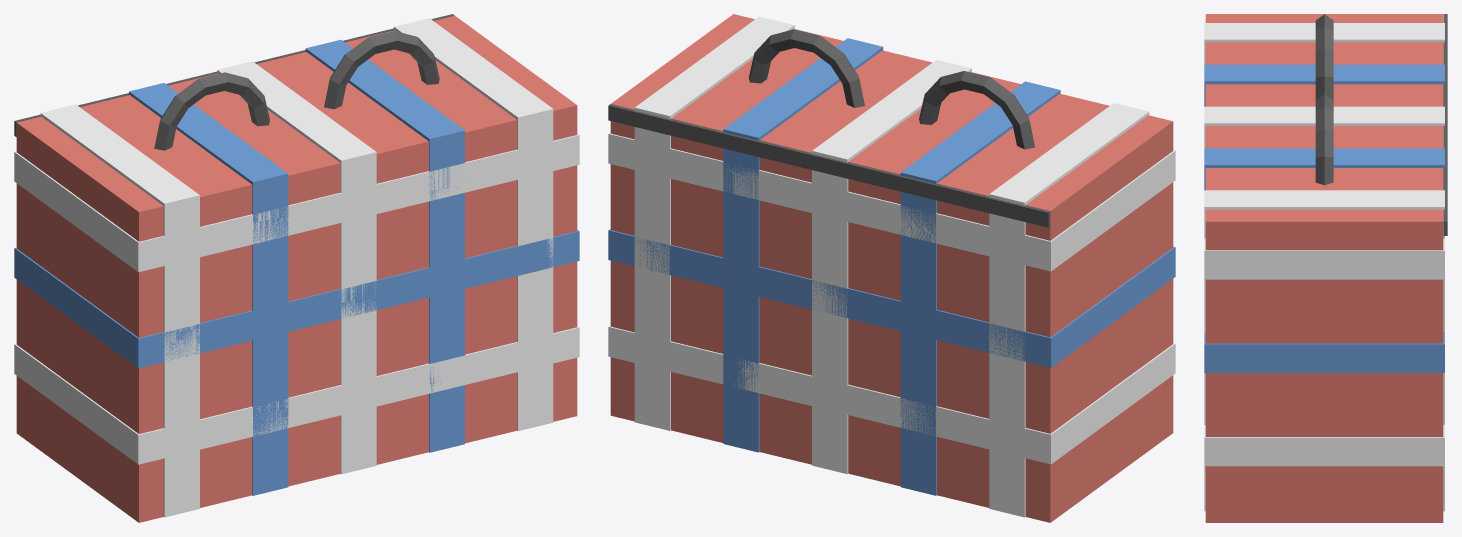
Rendered from ghana-must-go-bag.glb.
The picture shows the model from 3 angles, left to right: view 1: azimuth 30°, elevation 25°; view 2: azimuth 150°, elevation 25°; view 3: azimuth 270°, elevation 25°; orthographic projection. The views are drawn at different scales.
Visible parts, largest first — view 1: ghana-must-go-bag_Cube, ghana-must-go-bag_Cube.007, ghana-must-go-bag_Cube.006, ghana-must-go-bag_Cube.008, ghana-must-go-bag_Cube.001, ghana-must-go-bag_Cube.002, ghana-must-go-bag_Cube.003, ghana-must-go-bag_Cube.005, ghana-must-go-bag_Cube.004, ghana-must-go-bag_Torus.001, ghana-must-go-bag_Torus, ghana-must-go-bag_Cube.009; view 2: ghana-must-go-bag_Cube, ghana-must-go-bag_Cube.008, ghana-must-go-bag_Cube.007, ghana-must-go-bag_Cube.006, ghana-must-go-bag_Cube.001, ghana-must-go-bag_Cube.005, ghana-must-go-bag_Cube.004, ghana-must-go-bag_Cube.002, ghana-must-go-bag_Cube.003, ghana-must-go-bag_Cube.009, ghana-must-go-bag_Torus, ghana-must-go-bag_Torus.001; view 3: ghana-must-go-bag_Cube, ghana-must-go-bag_Cube.006, ghana-must-go-bag_Cube.008, ghana-must-go-bag_Cube.007, ghana-must-go-bag_Cube.005, ghana-must-go-bag_Cube.002, ghana-must-go-bag_Cube.004, ghana-must-go-bag_Cube.003, ghana-must-go-bag_Cube.001, ghana-must-go-bag_Torus.001, ghana-must-go-bag_Torus, ghana-must-go-bag_Cube.009.
Boxes of the visible parts, box(x1,y1,x2,y2) form: ghana-must-go-bag_Cube: box(16, 15, 577, 522); ghana-must-go-bag_Cube.007: box(14, 230, 579, 368); ghana-must-go-bag_Cube.006: box(14, 326, 579, 464); ghana-must-go-bag_Cube.008: box(14, 133, 579, 272); ghana-must-go-bag_Cube.001: box(40, 104, 199, 517); ghana-must-go-bag_Cube.002: box(129, 83, 288, 495); ghana-must-go-bag_Cube.003: box(217, 61, 376, 474); ghana-must-go-bag_Cube.005: box(394, 18, 553, 431); ghana-must-go-bag_Cube.004: box(305, 39, 464, 452); ghana-must-go-bag_Torus.001: box(324, 31, 439, 109); ghana-must-go-bag_Torus: box(154, 72, 269, 150); ghana-must-go-bag_Cube.009: box(14, 14, 454, 136); ghana-must-go-bag_Cube: box(610, 14, 1173, 522); ghana-must-go-bag_Cube.008: box(608, 132, 1175, 271); ghana-must-go-bag_Cube.007: box(608, 229, 1175, 367); ghana-must-go-bag_Cube.006: box(608, 325, 1175, 464); ghana-must-go-bag_Cube.001: box(989, 103, 1149, 517); ghana-must-go-bag_Cube.005: box(634, 16, 794, 430); ghana-must-go-bag_Cube.004: box(723, 38, 883, 452); ghana-must-go-bag_Cube.002: box(900, 81, 1060, 495); ghana-must-go-bag_Cube.003: box(812, 59, 971, 474); ghana-must-go-bag_Cube.009: box(608, 104, 1050, 227); ghana-must-go-bag_Torus: box(919, 71, 1035, 149); ghana-must-go-bag_Torus.001: box(748, 29, 864, 107); ghana-must-go-bag_Cube: box(1205, 14, 1443, 522); ghana-must-go-bag_Cube.006: box(1204, 425, 1444, 466); ghana-must-go-bag_Cube.008: box(1204, 238, 1444, 279); ghana-must-go-bag_Cube.007: box(1204, 332, 1444, 372); ghana-must-go-bag_Cube.005: box(1204, 190, 1444, 511); ghana-must-go-bag_Cube.002: box(1204, 64, 1444, 106); ghana-must-go-bag_Cube.004: box(1204, 148, 1444, 190); ghana-must-go-bag_Cube.003: box(1204, 106, 1444, 148); ghana-must-go-bag_Cube.001: box(1204, 23, 1444, 64); ghana-must-go-bag_Torus.001: box(1315, 94, 1333, 185); ghana-must-go-bag_Torus: box(1315, 14, 1333, 100); ghana-must-go-bag_Cube.009: box(1443, 14, 1447, 235).
Bounding box in the file's own units: 0.624 × 0.4999 × 0.3075.
